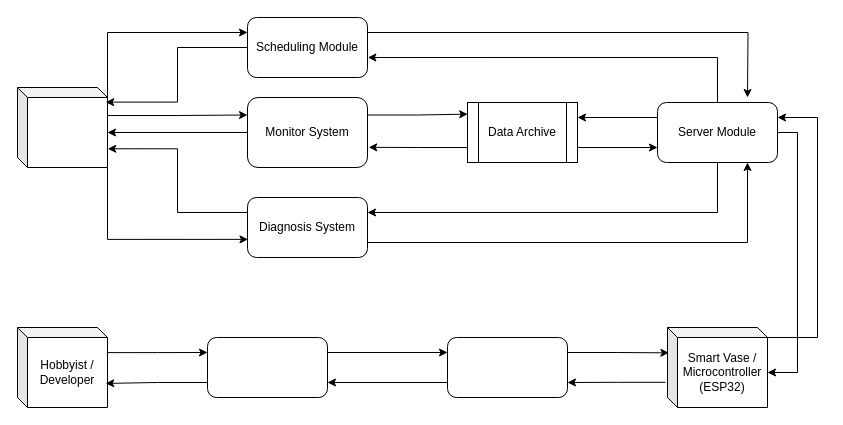
This 843x425 diagram has some shape labels left out. Each missing label, with the centre of its shape:
Application Parser: the point at 267,367
Raw Data Encoded Values: the point at 507,367
User: the point at 62,127
